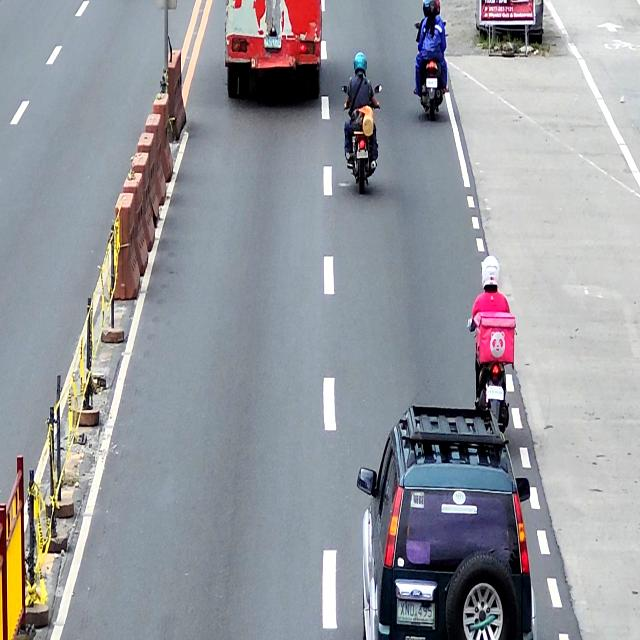Car: (356, 404, 532, 640)
License-Plate: (398, 602, 434, 626), (485, 384, 504, 401), (262, 36, 283, 49), (356, 148, 368, 160), (427, 78, 438, 88)
Motorcycle: (471, 320, 511, 434), (342, 82, 382, 195), (415, 19, 446, 123)
Truck: (225, 0, 323, 98)
